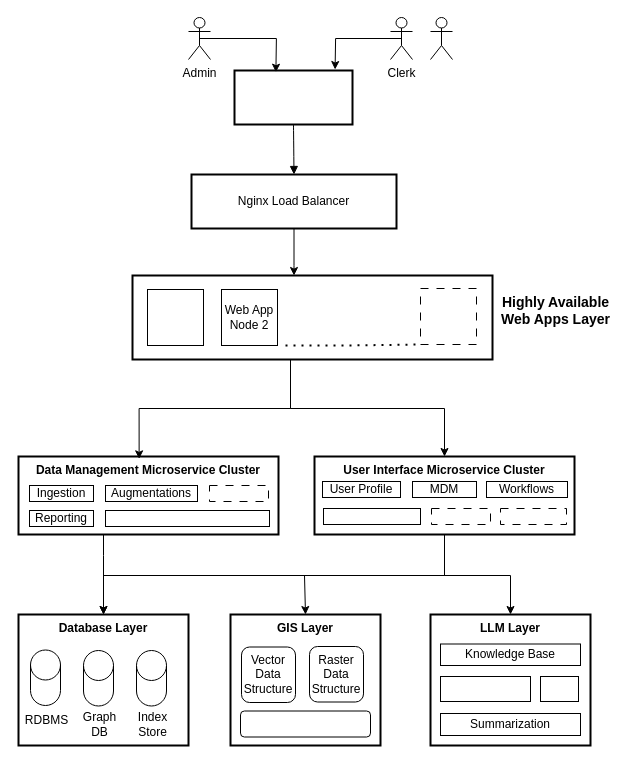
This 637x764 diagram has some shape labels left out. The shapes that lost their labels are listed below. From the top down, each one's centre as x and y in pixels, then its label:
At (x=441, y=38): "Users".
At (x=293, y=97): "Firewall".
At (x=175, y=317): "Web App Node 1".
At (x=448, y=316): "Web App Node N".
At (x=187, y=518): "Document management".
At (x=371, y=516): "Administrations".
At (x=485, y=689): "Translations".
At (x=559, y=689): "Q&A".
At (x=305, y=723): "GIS APIs".
